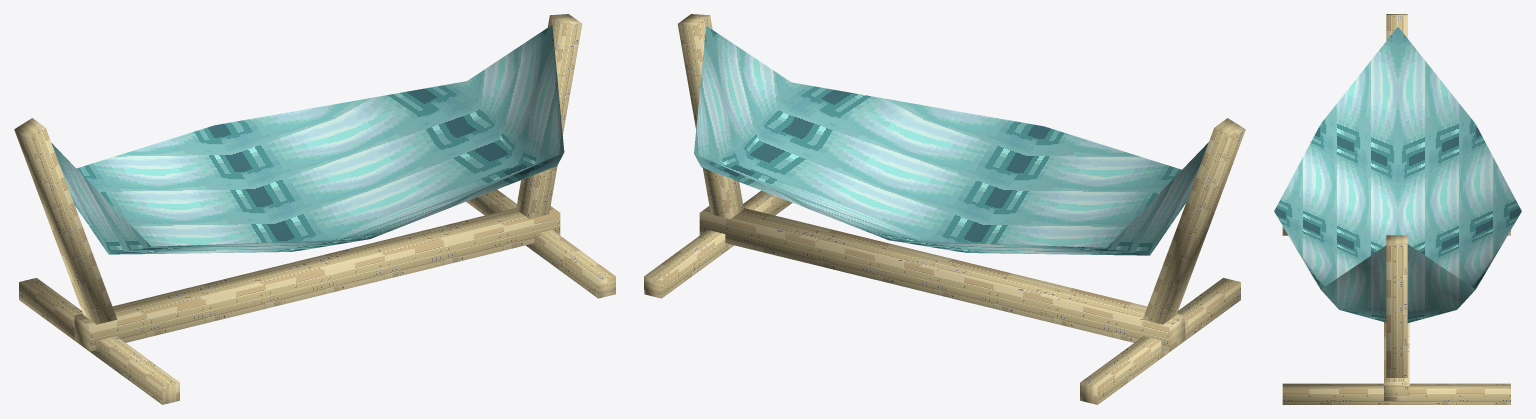
File: 3423IMIG20_22.gltf
The picture shows the model from 3 angles, left to right: view 1: azimuth 30°, elevation 25°; view 2: azimuth 150°, elevation 25°; view 3: azimuth 270°, elevation 25°; orthographic projection. The views are drawn at different scales.
Visible parts, largest first — view 1: 3423IMIG20_22; view 2: 3423IMIG20_22; view 3: 3423IMIG20_22.
Boxes of the visible parts, x1,y1,x2,y2 form: 3423IMIG20_22: [14, 14, 615, 404]; 3423IMIG20_22: [644, 14, 1245, 404]; 3423IMIG20_22: [1274, 14, 1521, 404].
Bounding box in the file's own units: 1.93 × 0.8074 × 0.9395.
2 materials, 2 textured.
